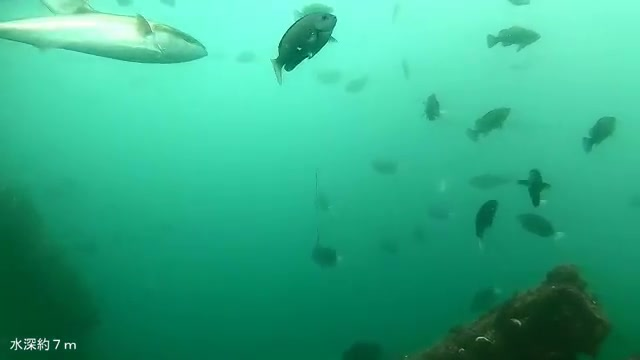hamati: (1, 2, 220, 60)
smallfish: (269, 9, 347, 90), (463, 102, 515, 154), (480, 18, 544, 60), (513, 211, 576, 250), (470, 194, 513, 248), (515, 162, 560, 212), (580, 114, 628, 154)
